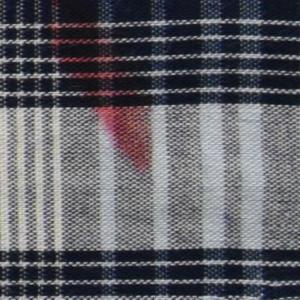Stain: (42, 1, 161, 179)
